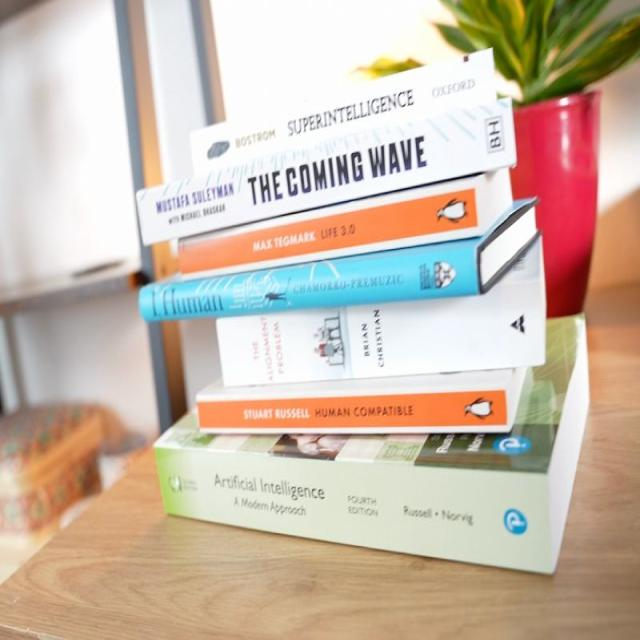book: (156, 406, 559, 573), (141, 94, 524, 247), (140, 251, 484, 326)
